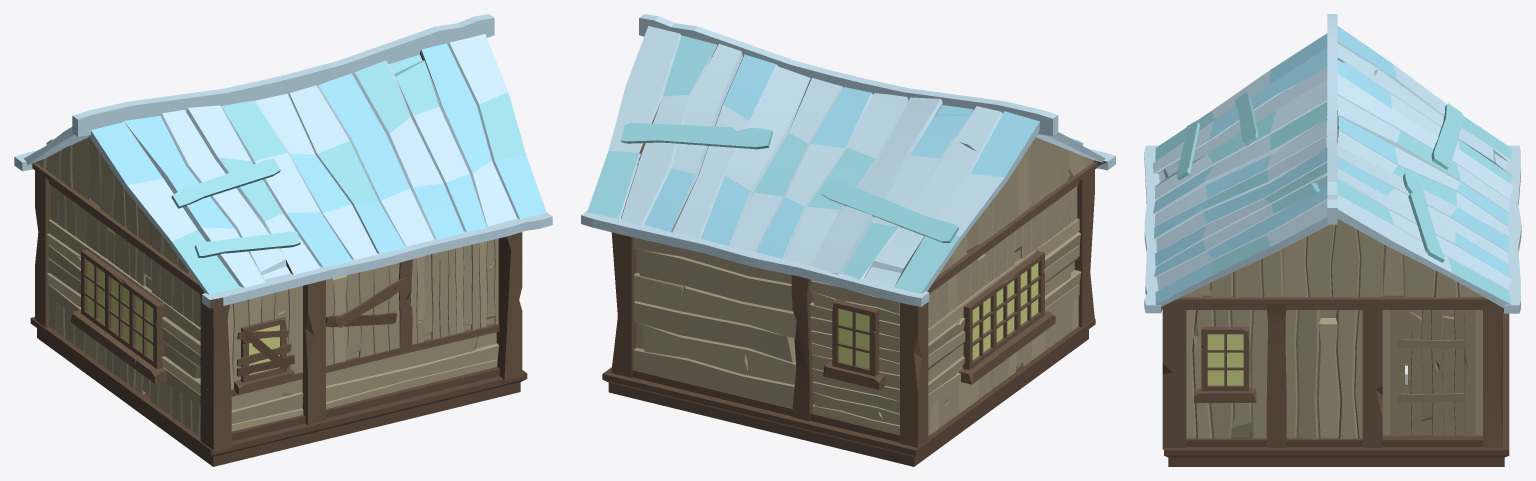
File: bluecoloringhouse1.fbx
The picture shows the model from 3 angles, left to right: view 1: azimuth 30°, elevation 25°; view 2: azimuth 150°, elevation 25°; view 3: azimuth 270°, elevation 25°; orthographic projection. The views are drawn at different scales.
Visible parts, largest first — view 1: House_1_Roof.013, House.011; view 2: House_1_Roof.013, House.011; view 3: House_1_Roof.013, House.011.
Part boxes in pixels (box(x1,y1,x2,y2)): House_1_Roof.013: box(14, 14, 552, 308); House.011: box(30, 170, 527, 466); House_1_Roof.013: box(581, 14, 1115, 306); House.011: box(602, 170, 1095, 466); House_1_Roof.013: box(1144, 14, 1521, 313); House.011: box(1162, 304, 1509, 466).
Bounding box in the file's own units: 573 × 395 × 471.
